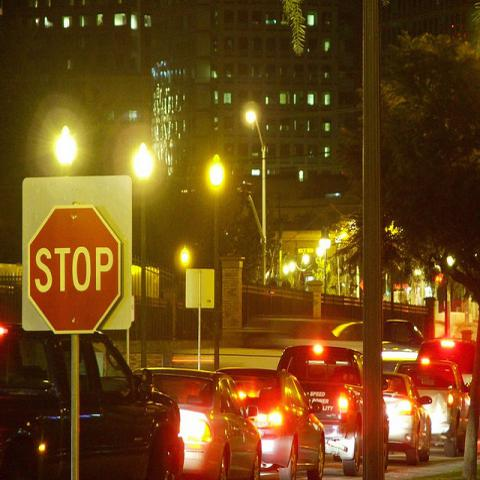car: (0, 322, 187, 479), (216, 364, 327, 479), (151, 369, 263, 479), (276, 345, 364, 475), (395, 360, 469, 458), (382, 370, 434, 464), (414, 337, 476, 394), (383, 319, 424, 348)
